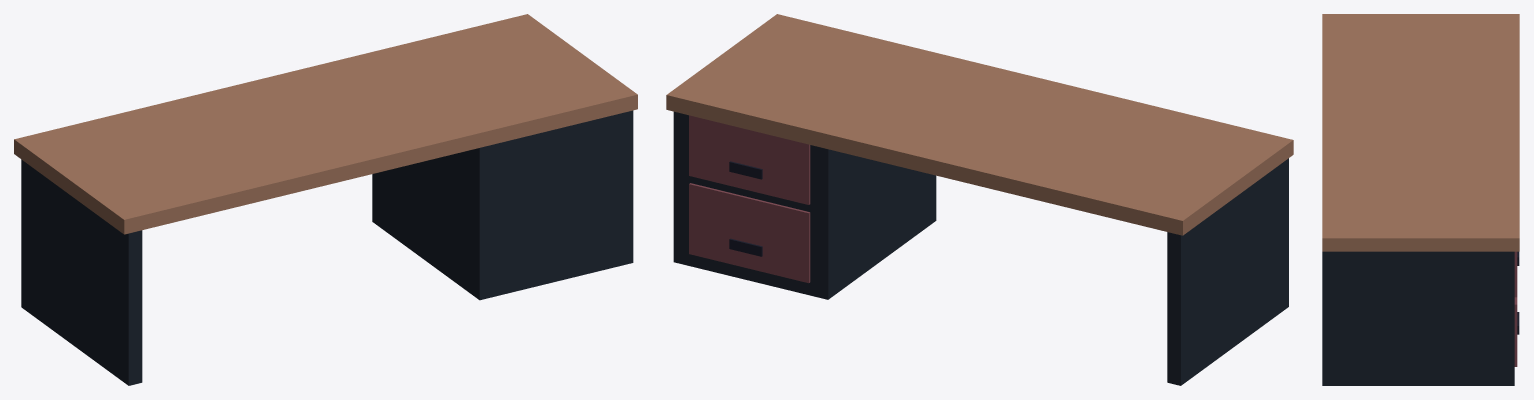
File: Interior_Desk_Modern_Dark.fbx
The picture shows the model from 3 angles, left to right: view 1: azimuth 30°, elevation 25°; view 2: azimuth 150°, elevation 25°; view 3: azimuth 270°, elevation 25°; orthographic projection. The views are drawn at different scales.
Parts seen in each view (by area): view 1: Cube.384; view 2: Cube.384; view 3: Cube.384.
Part boxes in pixels (x1=…): Cube.384: x1=14, y1=14, x2=637, y2=385; Cube.384: x1=666, y1=14, x2=1293, y2=385; Cube.384: x1=1322, y1=14, x2=1519, y2=385.
Size of the model in its own units: 204 by 63.34 by 75.59.
